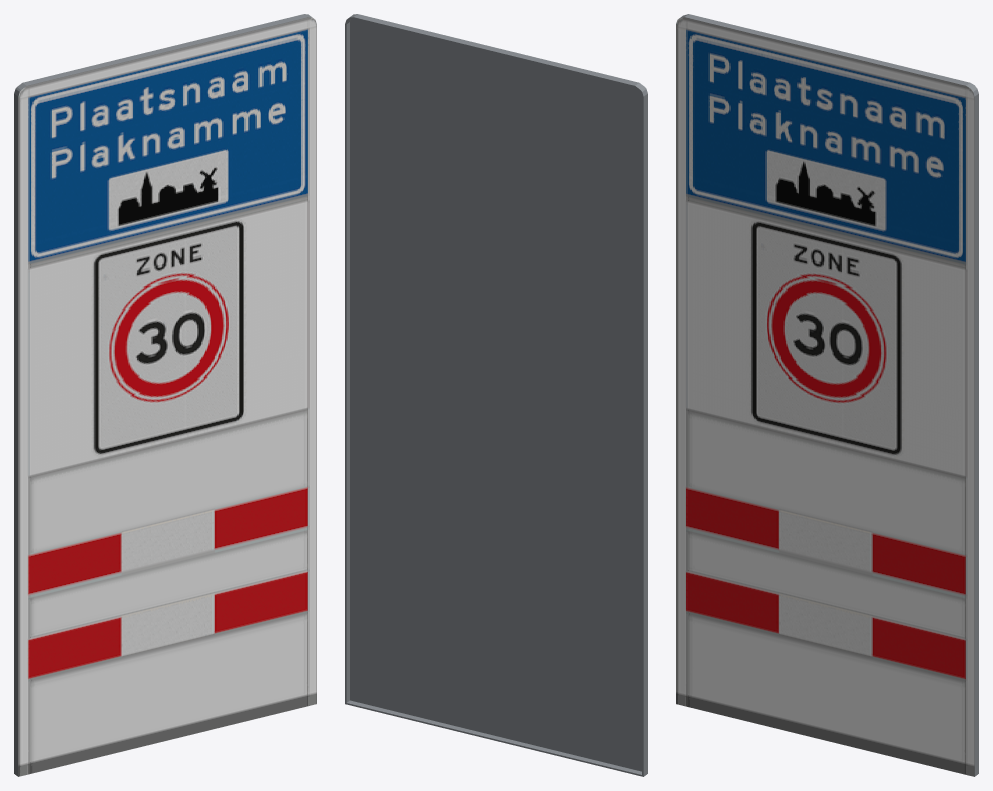
The picture shows the model from 3 angles, left to right: view 1: azimuth 30°, elevation 25°; view 2: azimuth 150°, elevation 25°; view 3: azimuth 330°, elevation 25°; orthographic projection.
Visible parts, largest first — view 1: cat_f0fa5156f6b390fc; view 2: cat_f0fa5156f6b390fc; view 3: cat_f0fa5156f6b390fc.
Part boxes in pixels (left/top/right/bottom): cat_f0fa5156f6b390fc: left=14, top=14, right=316, bottom=776; cat_f0fa5156f6b390fc: left=345, top=14, right=647, bottom=776; cat_f0fa5156f6b390fc: left=676, top=14, right=978, bottom=776.
Bounding box in the file's own units: 0.6 × 0.015 × 1.32.
2 materials, 1 textured.
